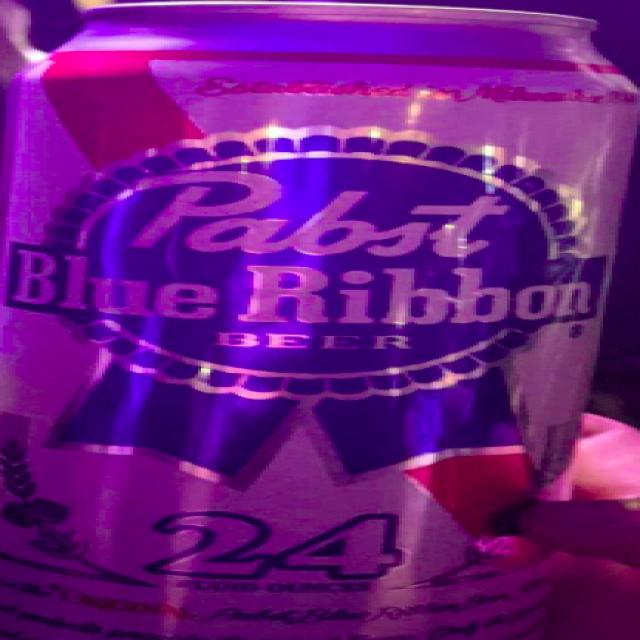Pabst Blue Ribbon: (3, 1, 640, 640)
